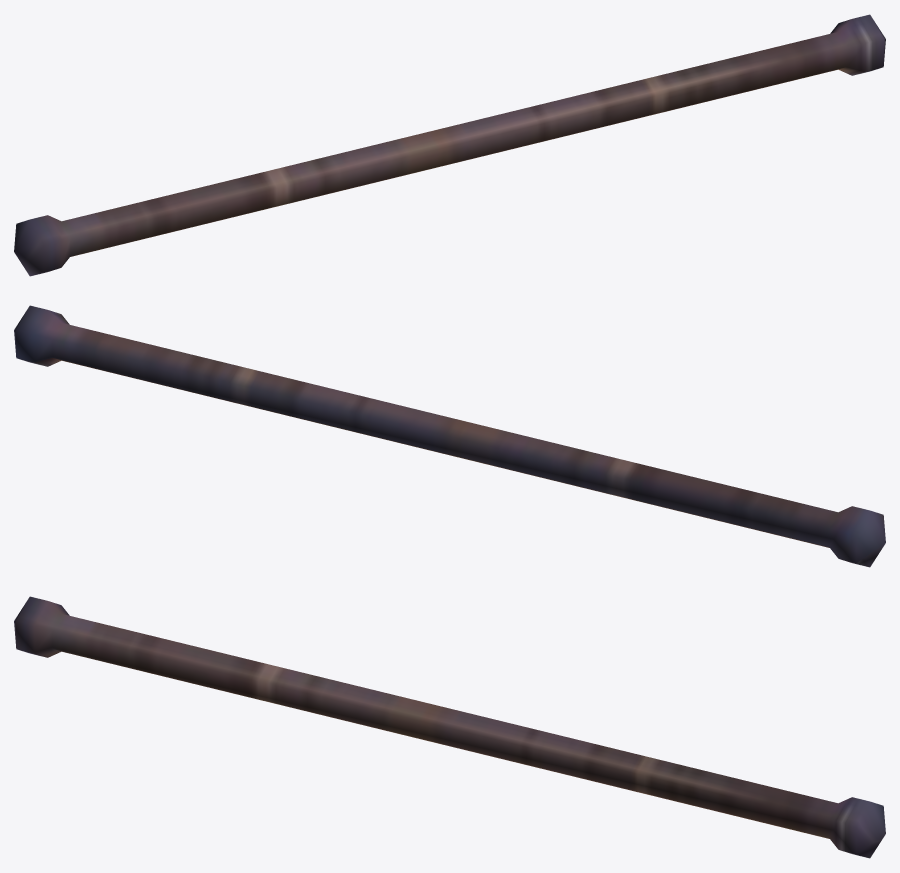
The model's file is cor1_prop_tapestry.fbx.
3 views of the same model, one above another, from view 1: azimuth 30°, elevation 25°; view 2: azimuth 150°, elevation 25°; view 3: azimuth 330°, elevation 25° (orthographic).
Parts seen in each view (by area): view 1: cylinder; view 2: cylinder; view 3: cylinder.
Part boxes in pixels (bbox=[...]): cylinder: bbox=[14, 14, 885, 276]; cylinder: bbox=[14, 305, 885, 567]; cylinder: bbox=[14, 596, 885, 858].
Size of the model in its own units: 4.82 by 0.3013 by 0.2609.
